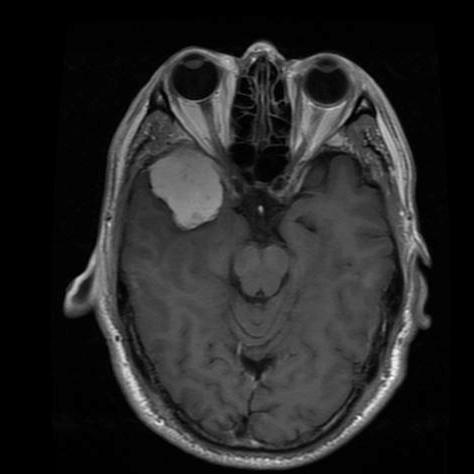Tumour-Meningioma: (131, 144, 246, 233)
